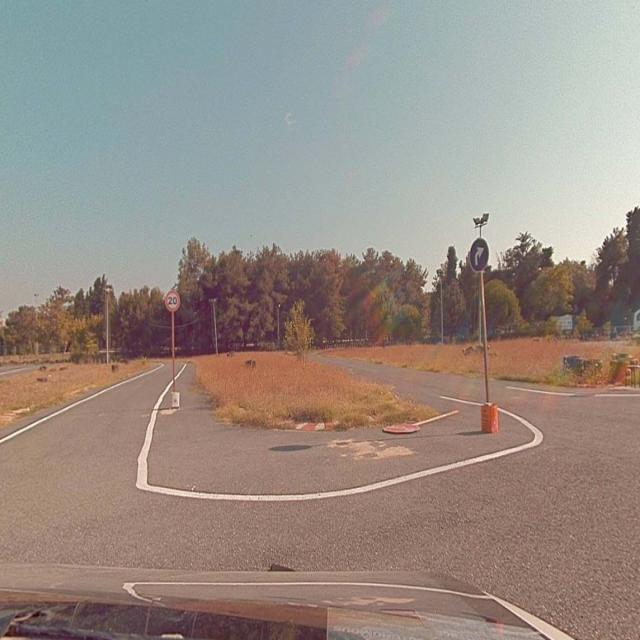20: (165, 290, 179, 310)
sag: (470, 238, 489, 270)
